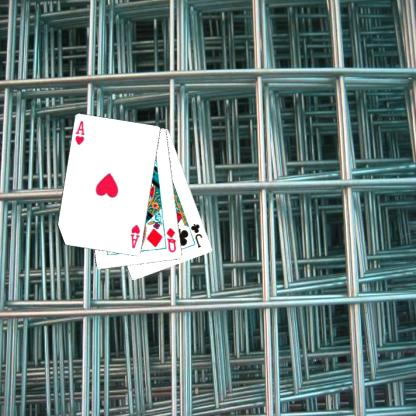AH: (72, 119, 86, 146), (128, 222, 141, 250)
JC: (188, 221, 204, 249)
QD: (164, 225, 178, 254)
